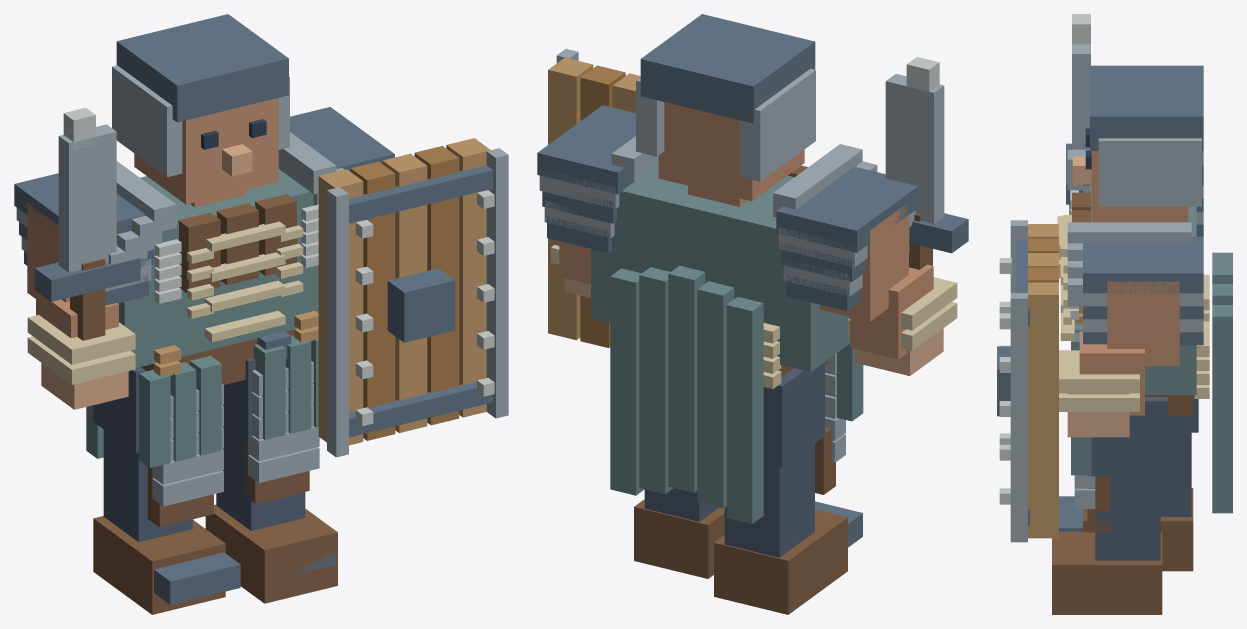
Rendered from arena-q-tower-captain.glb.
3 views of the same model, side by side, from view 1: azimuth 30°, elevation 25°; view 2: azimuth 150°, elevation 25°; view 3: azimuth 270°, elevation 25° (orthographic). The views are drawn at different scales.
Parts seen in each view (by area): view 1: Shield, Helmet, Boots, Shoulders, Weapon, Skirt, Legs, Cloth, Greaves, Head, Rivets, Vest (+8 smaller); view 2: Cape, Shoulders, Cloth, Helmet, Boots, Legs, Weapon, Arms, Shield, Head, Wraps, Greaves (+3 smaller); view 3: Shield, Helmet, Shoulders, Legs, Boots, Arms, Cape, Wraps, Weapon, Seams, Cloth, Head (+8 smaller).
Part boxes in pixels (x1=…): Shield: x1=318, y1=138, x2=508, y2=457; Helmet: x1=112, y1=14, x2=289, y2=177; Boots: x1=93, y1=504, x2=337, y2=614; Shoulders: x1=14, y1=107, x2=394, y2=305; Weapon: x1=34, y1=107, x2=140, y2=340; Skirt: x1=139, y1=335, x2=318, y2=467; Legs: x1=93, y1=357, x2=305, y2=542; Cloth: x1=118, y1=169, x2=318, y2=367; Greaves: x1=147, y1=361, x2=319, y2=527; Head: x1=134, y1=98, x2=278, y2=207; Rivets: x1=154, y1=190, x2=494, y2=426; Vest: x1=178, y1=194, x2=296, y2=292; Cape: x1=610, y1=265, x2=763, y2=523; Shoulders: x1=537, y1=105, x2=917, y2=311; Cloth: x1=591, y1=165, x2=849, y2=371; Helmet: x1=636, y1=14, x2=815, y2=181; Boots: x1=634, y1=499, x2=862, y2=614; Legs: x1=644, y1=362, x2=824, y2=557; Weapon: x1=885, y1=57, x2=968, y2=269; Arms: x1=550, y1=203, x2=933, y2=359; Shield: x1=548, y1=49, x2=640, y2=347; Head: x1=658, y1=102, x2=804, y2=206; Wraps: x1=551, y1=245, x2=957, y2=350; Greaves: x1=815, y1=353, x2=845, y2=494; Shield: x1=997, y1=220, x2=1058, y2=542; Helmet: x1=1090, y1=65, x2=1203, y2=206; Shoulders: x1=1067, y1=143, x2=1203, y2=345; Legs: x1=1088, y1=395, x2=1198, y2=560; Boots: x1=1052, y1=488, x2=1193, y2=614; Arms: x1=1079, y1=281, x2=1179, y2=415; Cape: x1=1212, y1=252, x2=1232, y2=513; Wraps: x1=1057, y1=216, x2=1139, y2=411; Weapon: x1=1066, y1=14, x2=1090, y2=214; Seams: x1=1060, y1=215, x2=1209, y2=398; Cloth: x1=1090, y1=185, x2=1196, y2=394; Head: x1=1091, y1=151, x2=1188, y2=222.
Bounding box in the file's own units: 1.74 × 2.02 × 0.8898.
